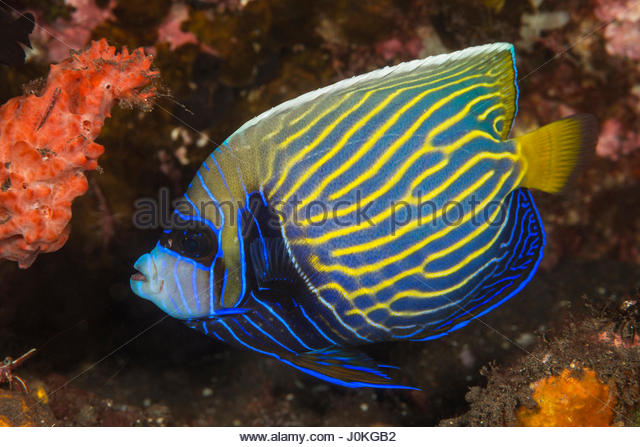Pomacanthus_imperator: (131, 40, 574, 400)
